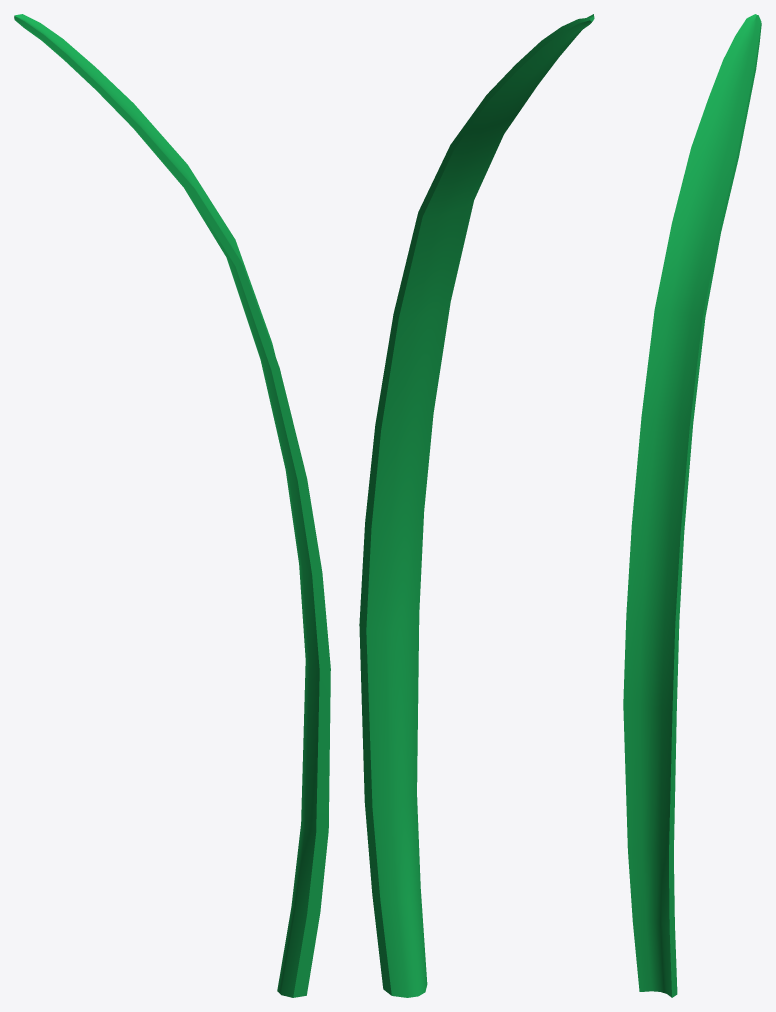
The model's file is Grass.fbx.
The picture shows the model from 3 angles, left to right: view 1: azimuth 30°, elevation 25°; view 2: azimuth 150°, elevation 25°; view 3: azimuth 270°, elevation 25°; orthographic projection. The views are drawn at different scales.
Visible parts, largest first — view 1: SM_Grass; view 2: SM_Grass; view 3: SM_Grass.
Boxes of the visible parts, bbox=[...] form: SM_Grass: bbox=[14, 14, 330, 997]; SM_Grass: bbox=[359, 14, 594, 997]; SM_Grass: bbox=[623, 14, 761, 997].
Bounding box in the file's own units: 100 × 362 × 51.45.
